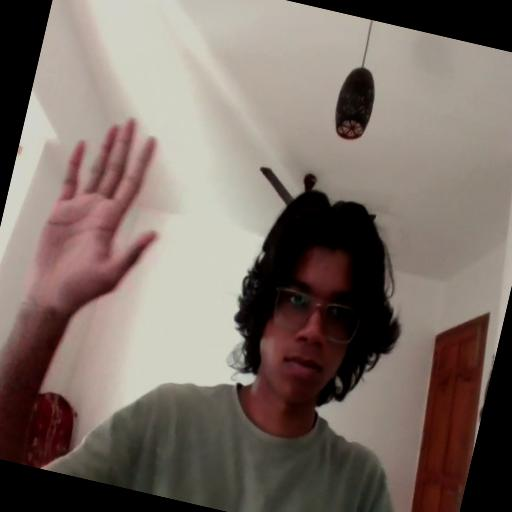Paper: (27, 94, 184, 313)
